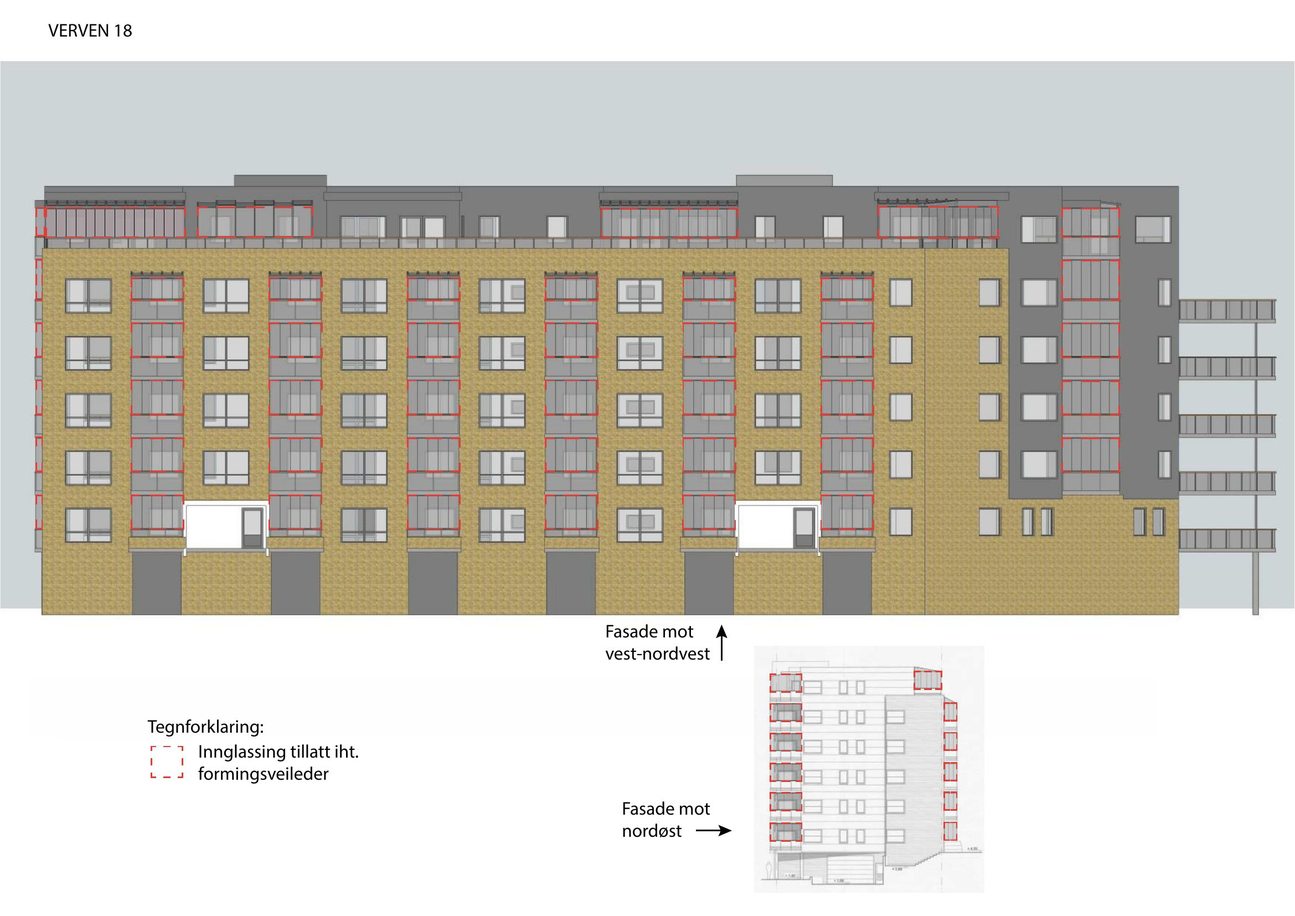fasade: (34, 175, 1277, 613), (772, 661, 959, 886)
